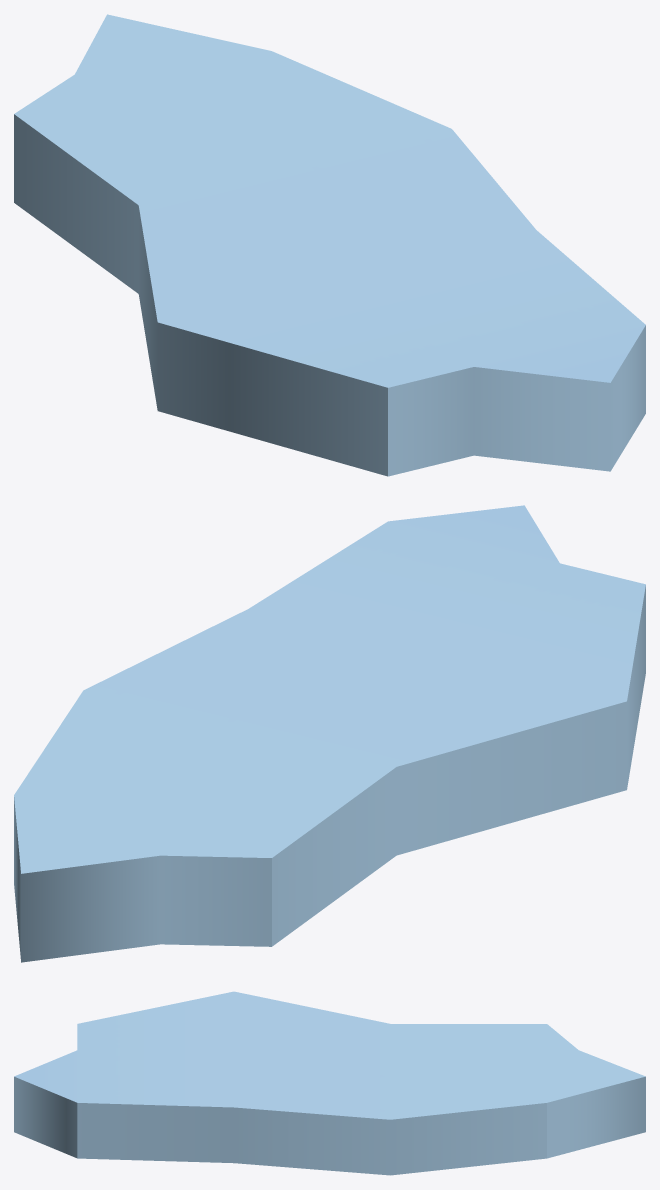
File: Rock 33.FBX
3 views of the same model, one above another, from view 1: azimuth 30°, elevation 25°; view 2: azimuth 150°, elevation 25°; view 3: azimuth 270°, elevation 25° (orthographic). The views are drawn at different scales.
Visible parts, largest first — view 1: Box001; view 2: Box001; view 3: Box001.
Part boxes in pixels (bbox=[...]): Box001: bbox=[14, 14, 645, 476]; Box001: bbox=[14, 505, 645, 962]; Box001: bbox=[14, 991, 645, 1175].
Bounding box in the file's own units: 24.02 × 4.86 × 50.01.
